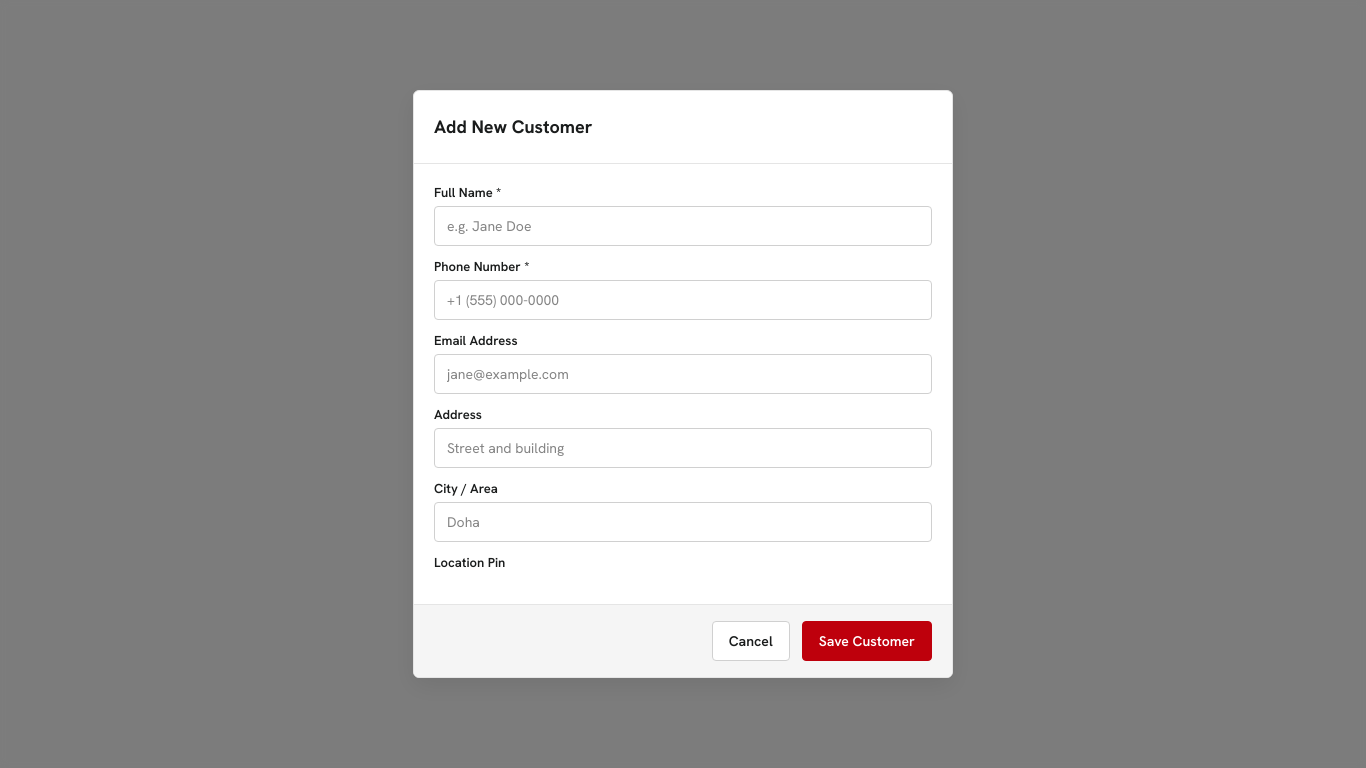
it: customer modal preserves its form and suppresses late completion after replacement
The width and height of the screenshot is (1366, 768).
Type "Old Merchant Customer" into the field labelled "Full Name *". click: coordinates (683, 226)
box: [434,206,932,246]
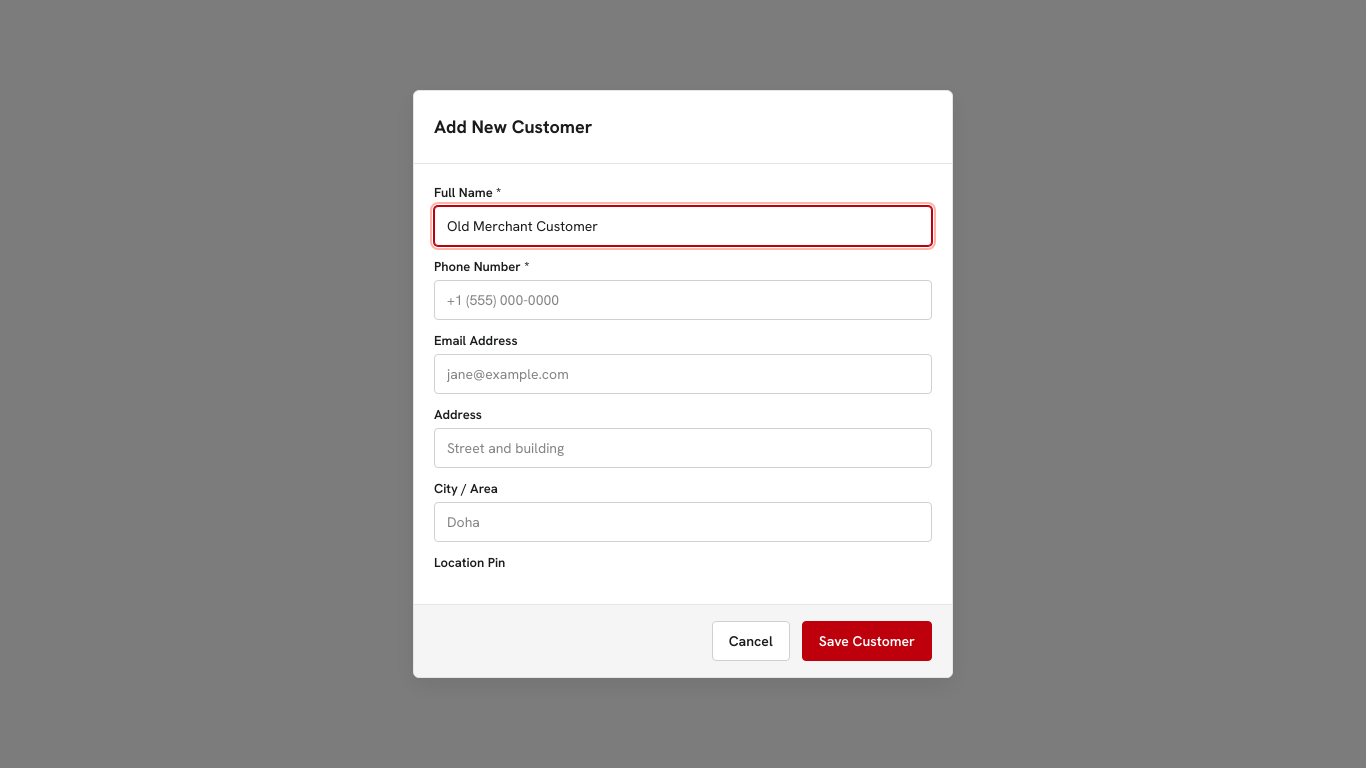
Type "+97455550000" into the field labelled "Phone Number *". click: coordinates (683, 300)
box: [434,280,932,320]
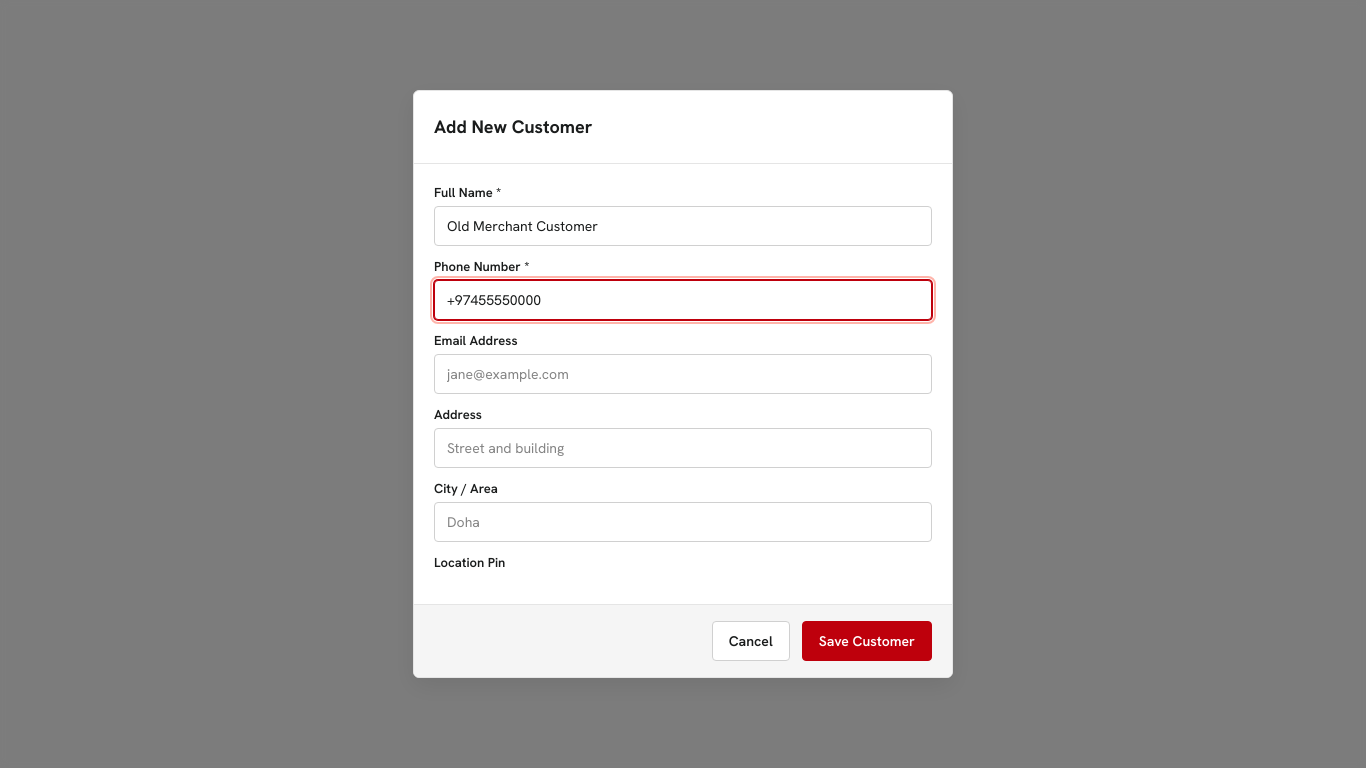
Click the button "Save Customer". click: coordinates (867, 641)
box: [802,621,932,661]
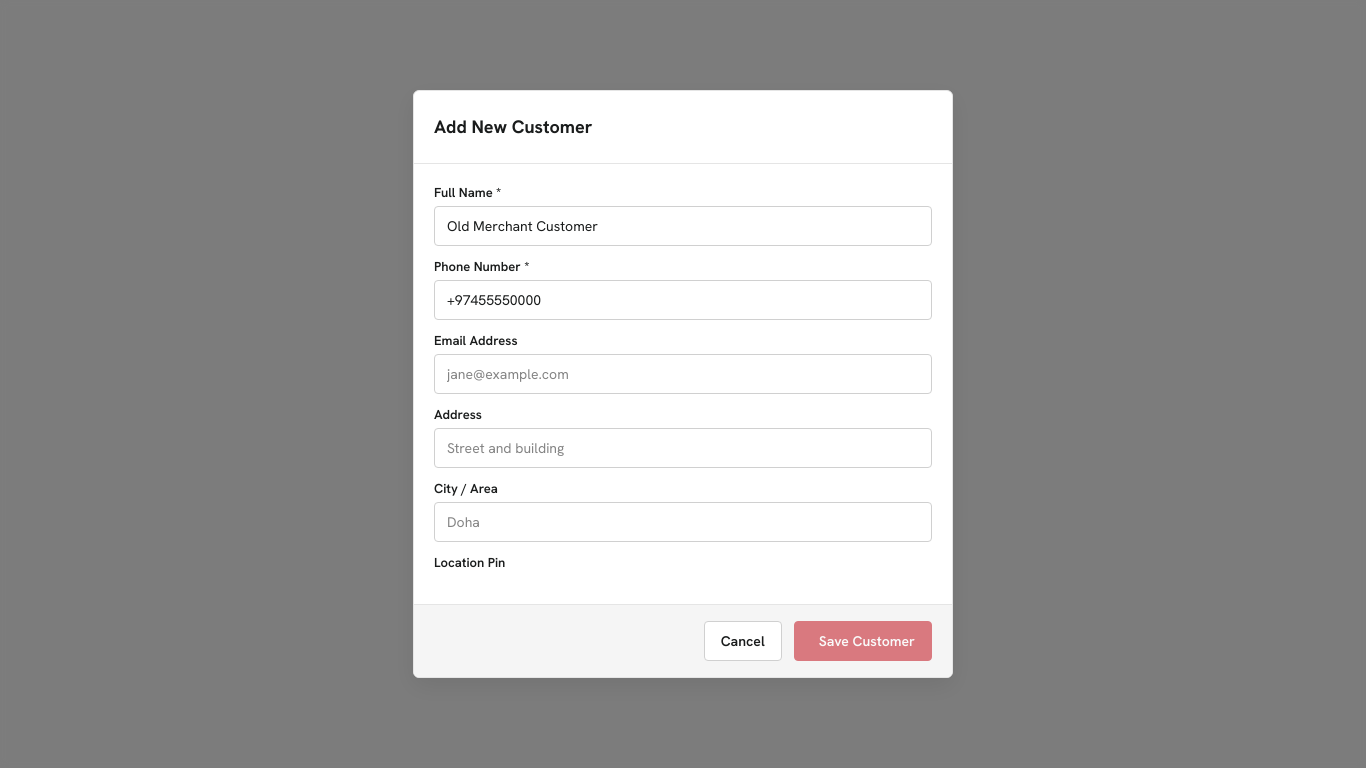
Result: the button "Save Customer" is disabled at [794,621,932,661]
